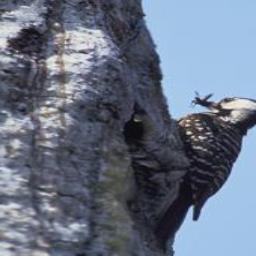Woodpecker: (123, 89, 256, 255)
